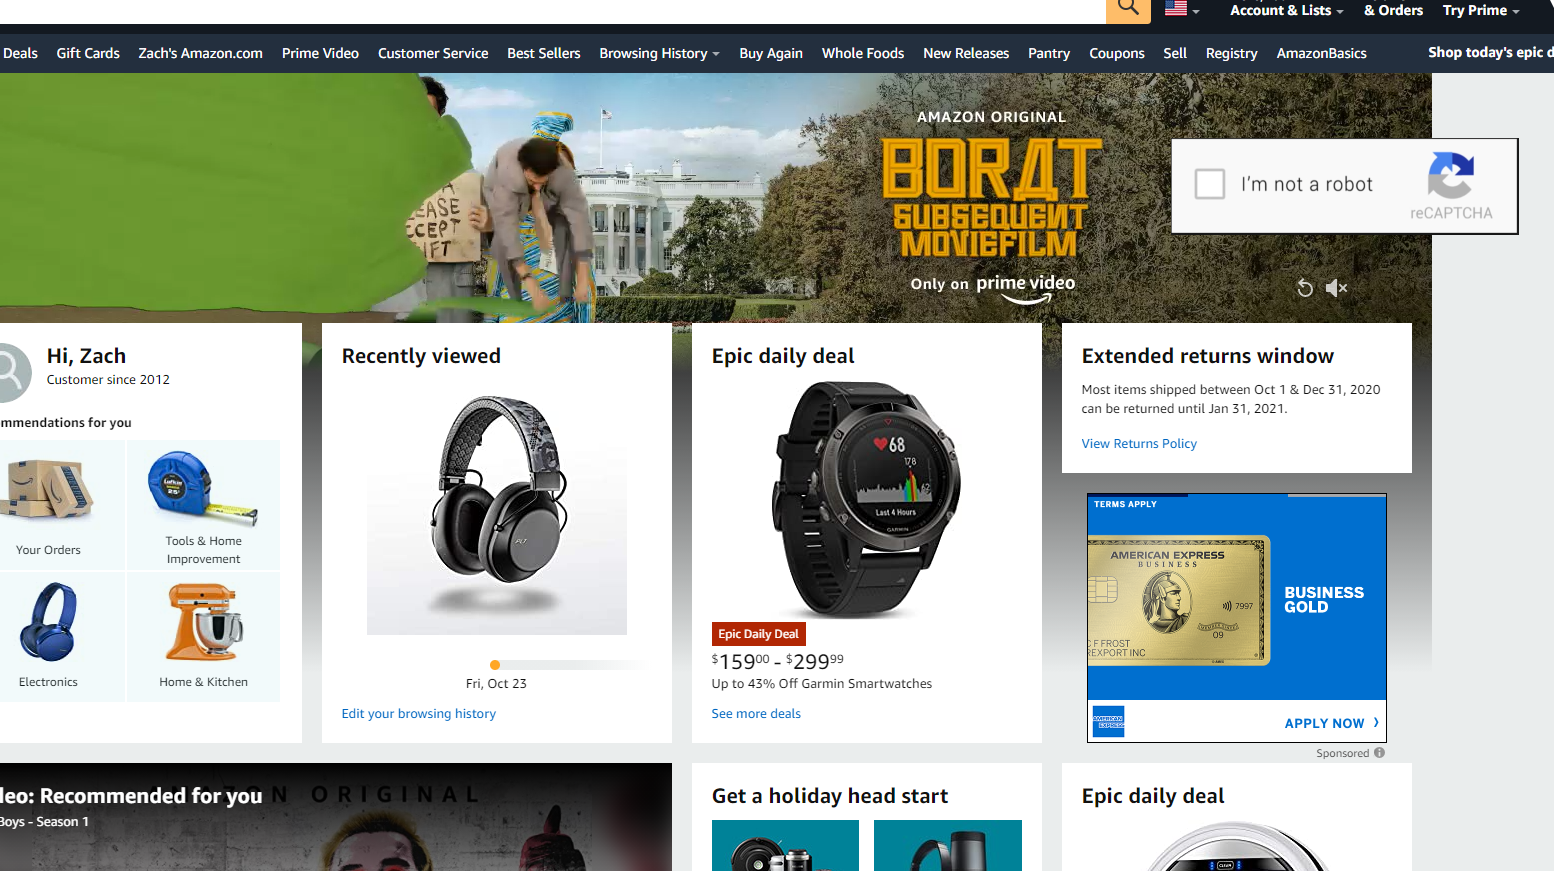captcha: (1173, 140, 1515, 233)
